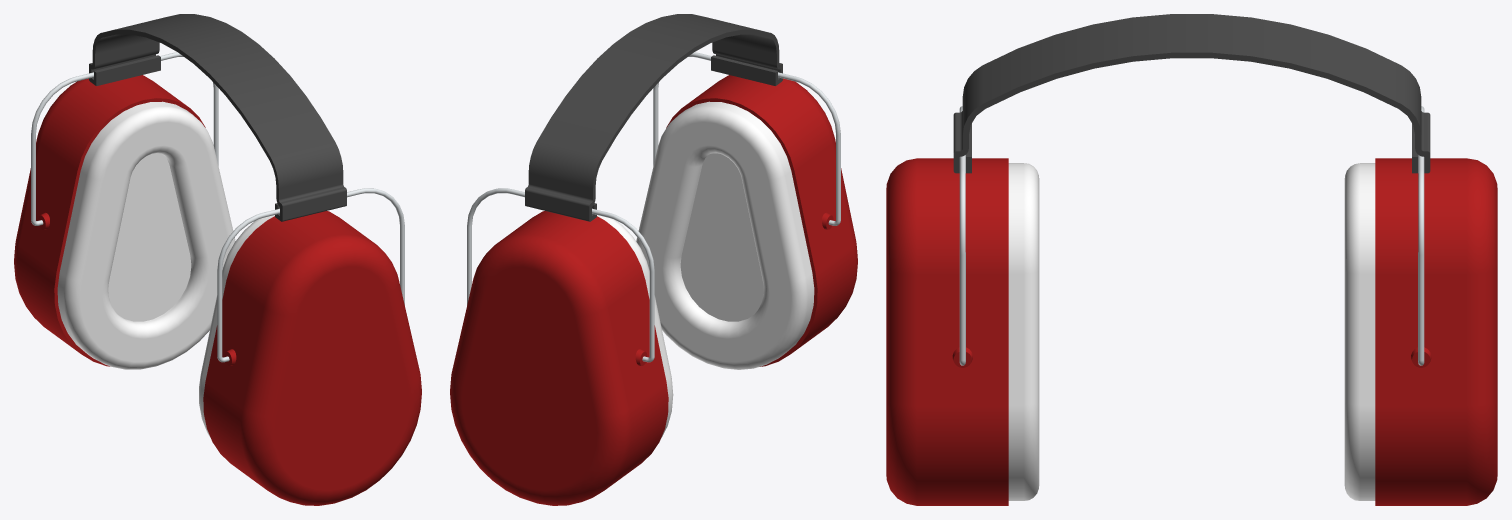
File: hearingProtectors.FBX
3 views of the same model, side by side, from view 1: azimuth 30°, elevation 25°; view 2: azimuth 150°, elevation 25°; view 3: azimuth 270°, elevation 25° (orthographic). The views are drawn at different scales.
Parts seen in each view (by area): view 1: Simetría8, Saliente-Extruir4, Extruir-Lámina2; view 2: Saliente-Extruir4, Simetría8, Extruir-Lámina2; view 3: Saliente-Extruir4, Simetría8, Extruir-Lámina2.
Boxes of the visible parts, <box> form: Simetría8: <box>199,188,421,505</box>; Saliente-Extruir4: <box>14,52,235,369</box>; Extruir-Lámina2: <box>89,14,346,221</box>; Saliente-Extruir4: <box>450,188,673,505</box>; Simetría8: <box>636,52,857,369</box>; Extruir-Lámina2: <box>525,14,782,221</box>; Saliente-Extruir4: <box>1344,106,1497,505</box>; Simetría8: <box>886,106,1039,505</box>; Extruir-Lámina2: <box>953,14,1430,173</box>.
Bounding box in the file's own units: 8.7 × 16.62 × 20.
